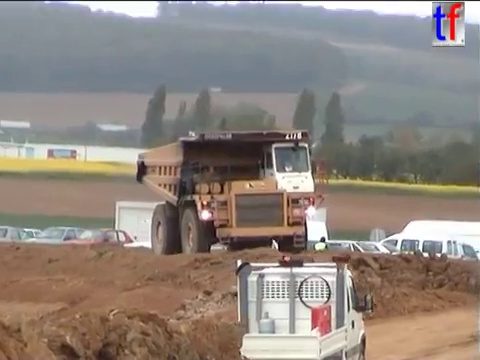truck: (133, 127, 331, 267), (232, 252, 375, 360)
worker: (311, 233, 330, 271)
